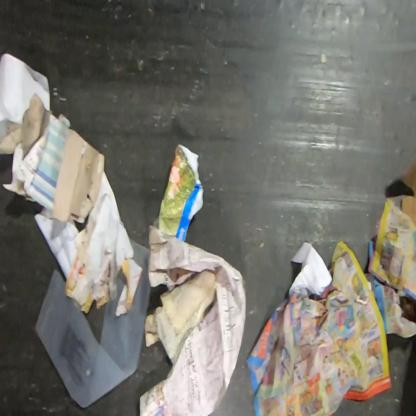cardboard: (0, 92, 105, 224), (401, 157, 415, 229)
soft_plastic: (34, 236, 151, 408)
